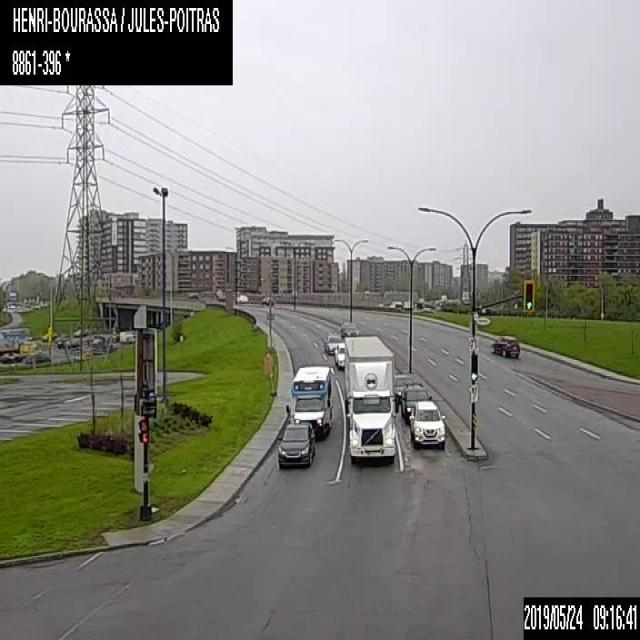bus: (286, 365, 332, 440)
vehicle: (344, 335, 395, 460), (408, 399, 445, 449), (276, 422, 314, 469), (401, 384, 432, 422), (491, 334, 519, 358), (393, 372, 413, 404), (323, 333, 342, 353), (333, 342, 345, 366), (41, 329, 59, 342), (340, 322, 356, 336), (73, 326, 88, 338), (236, 293, 248, 303), (260, 295, 273, 304)
